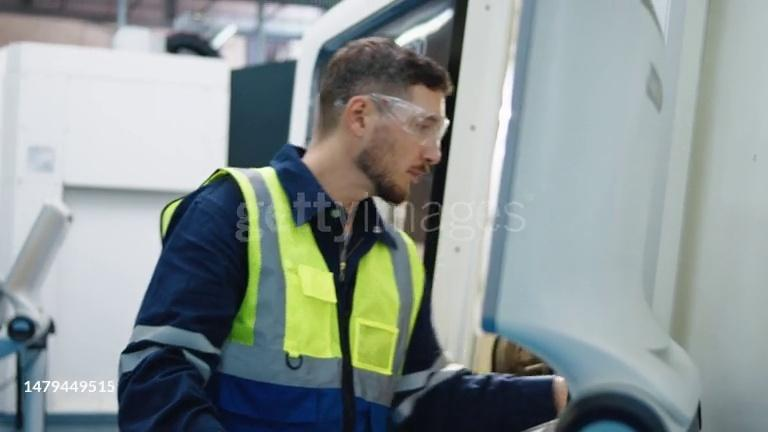person: (118, 40, 569, 432)
